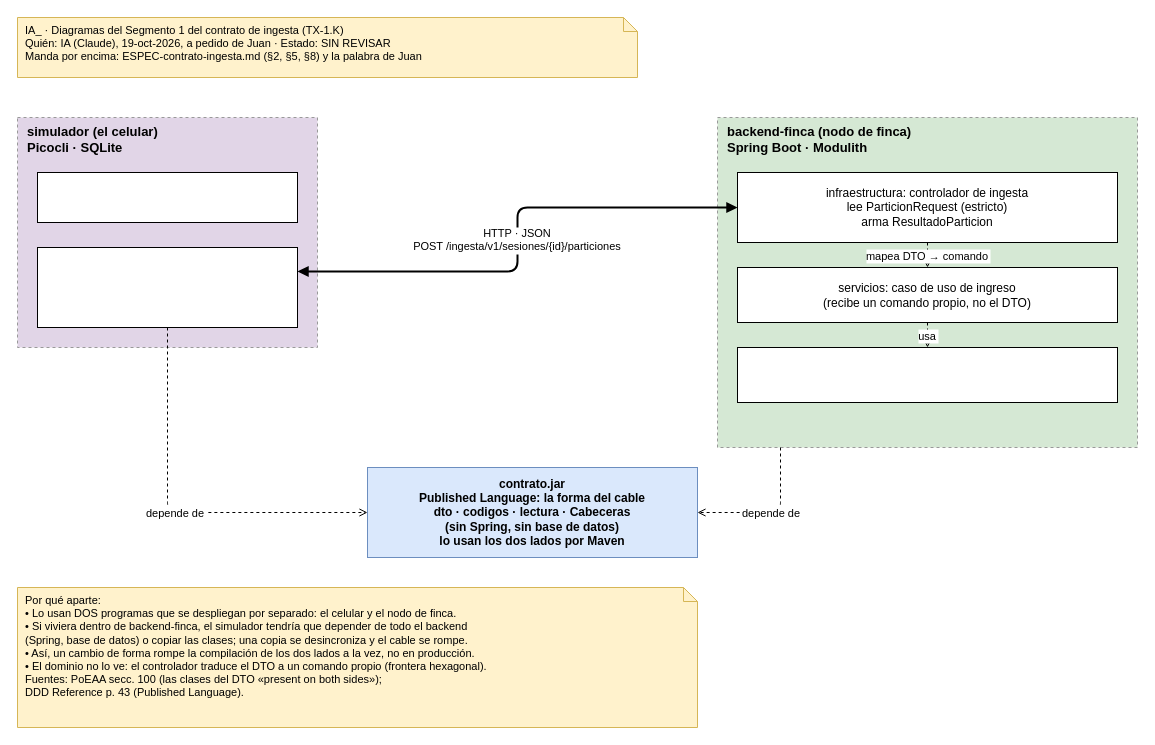
This 1155x745 diagram has some shape labels left out. Each missing label, with the centre of its shape:
"almacén de salida (anotaciones capturadas)" goes at point 167,197.
"cliente HTTP arma ParticionRequest lee ResultadoParticion (tolerante)" goes at point 167,287.
"dominio: Anotacion, reglas Java puro · NO importa contrato (A-44)" goes at point 927,374.
